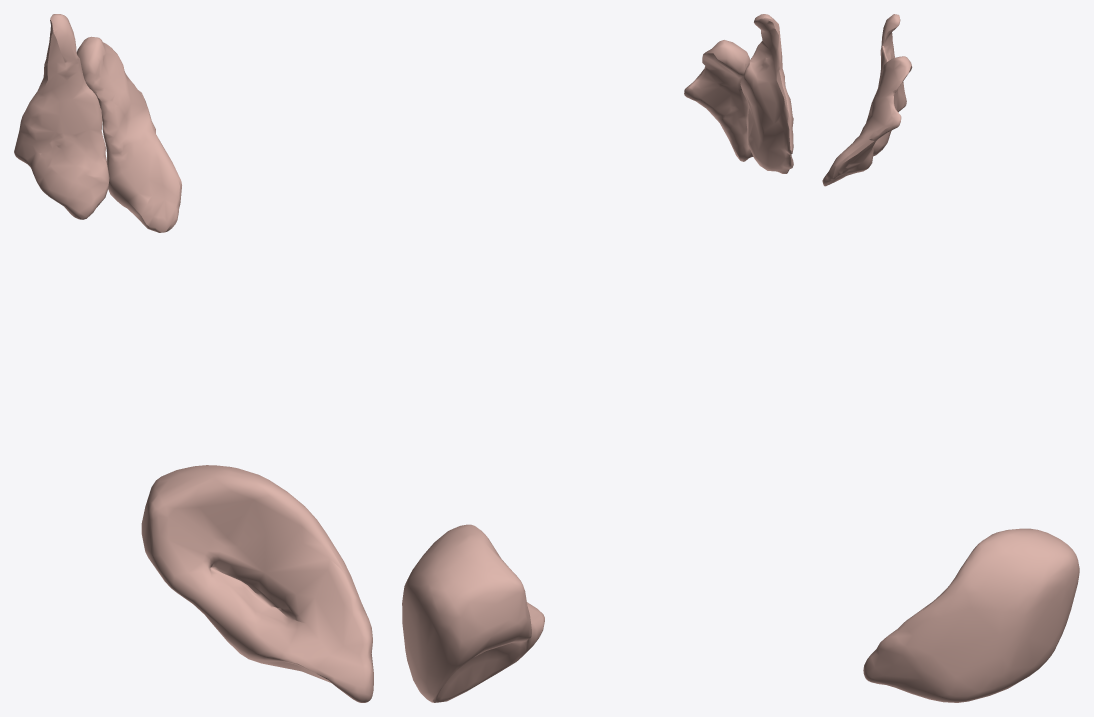
The model's file is central.glb.
3 views of the same model, side by side, from view 1: azimuth 30°, elevation 25°; view 2: azimuth 150°, elevation 25°; view 3: azimuth 270°, elevation 25° (orthographic). The views are drawn at different scales.
Parts seen in each view (by area): view 1: bp3d_FMA7196_FJ2561, bp3d_FMA71194_FJ3151, bp3d_FMA71195_FJ3150; view 2: bp3d_FMA7196_FJ2561, bp3d_FMA71194_FJ3151, bp3d_FMA71195_FJ3150; view 3: bp3d_FMA7196_FJ2561, bp3d_FMA71195_FJ3150, bp3d_FMA71194_FJ3151.
Part boxes in pixels (<box>): bp3d_FMA7196_FJ2561: <box>141,465,373,702</box>; bp3d_FMA71194_FJ3151: <box>14,14,109,219</box>; bp3d_FMA71195_FJ3150: <box>76,36,181,232</box>; bp3d_FMA7196_FJ2561: <box>402,524,544,702</box>; bp3d_FMA71194_FJ3151: <box>740,14,793,173</box>; bp3d_FMA71195_FJ3150: <box>684,40,753,161</box>; bp3d_FMA7196_FJ2561: <box>863,528,1079,702</box>; bp3d_FMA71195_FJ3150: <box>822,56,912,186</box>; bp3d_FMA71194_FJ3151: <box>873,14,906,156</box>.
Bounding box in the file's own units: 0.1386 × 0.2781 × 0.1131.
